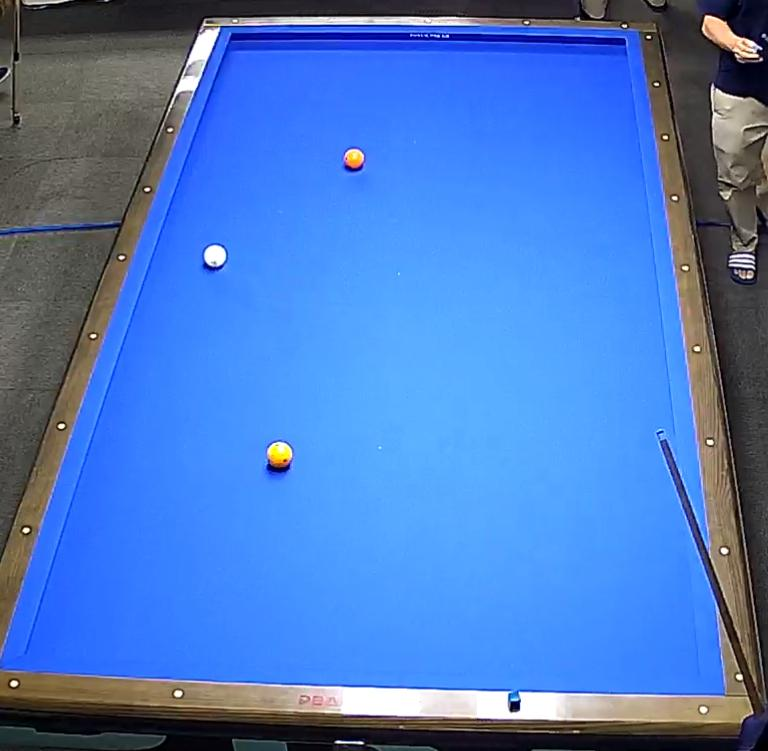orange ball: (341, 143, 366, 178)
white ball: (199, 237, 229, 275)
yellow ball: (261, 437, 294, 472)
